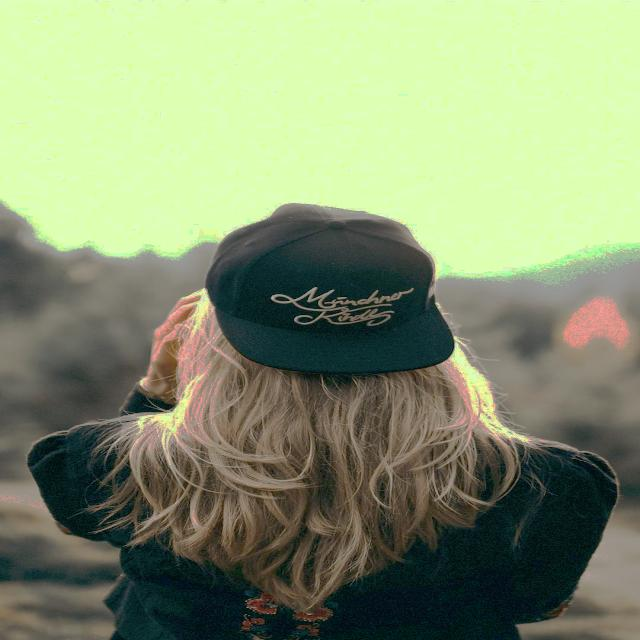TOPI: (173, 193, 537, 402)
